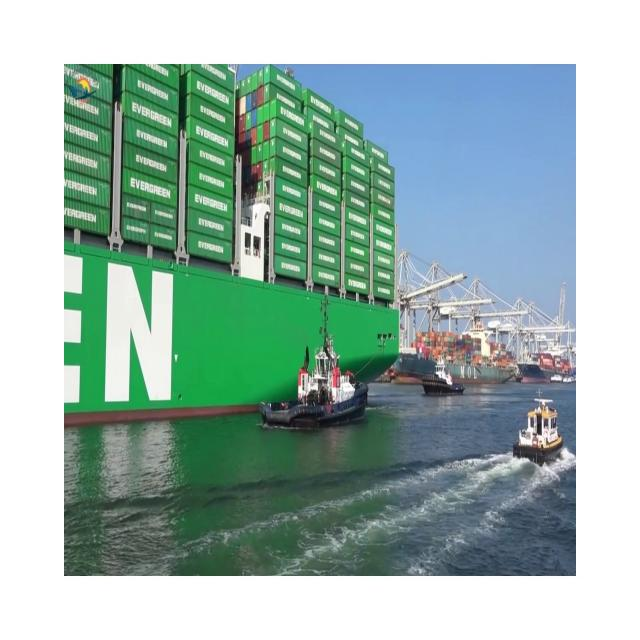OCR: (79, 244, 197, 426)
